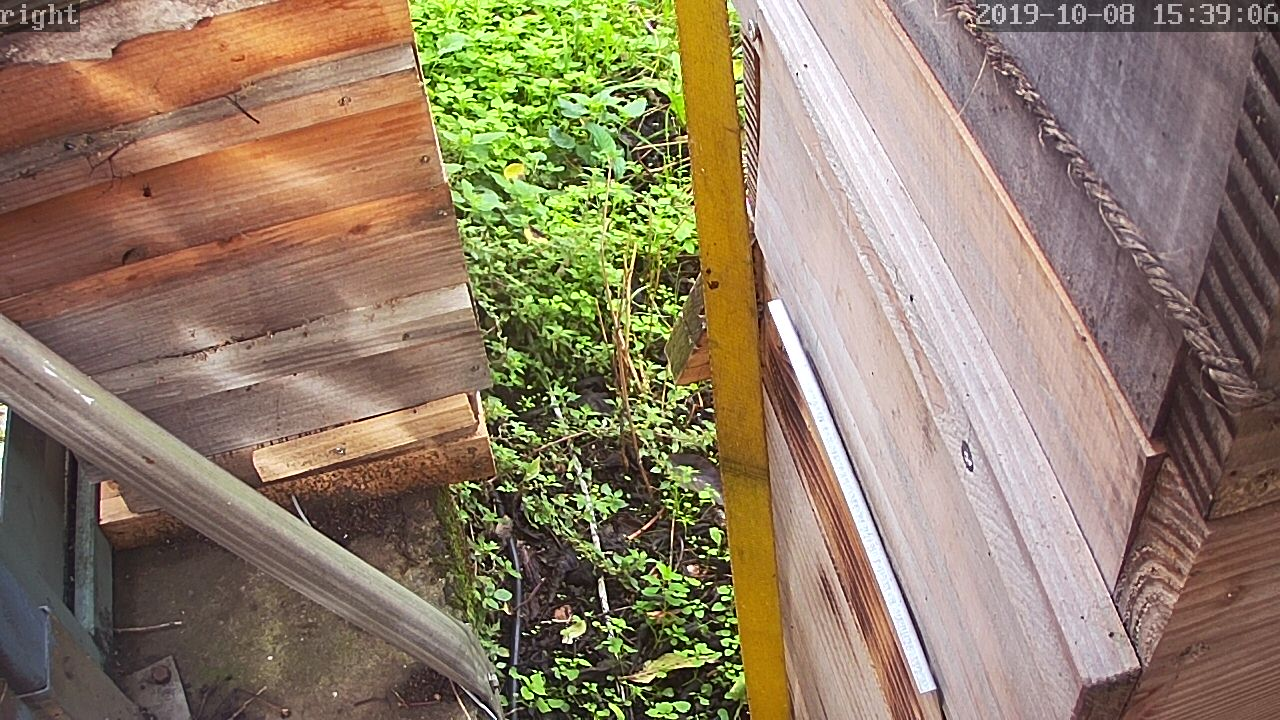hornet: (708, 546, 744, 600)
